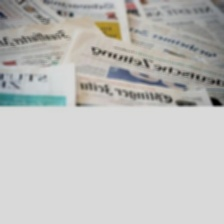news_paper: (55, 26, 223, 109), (47, 69, 219, 107), (0, 14, 109, 68), (35, 0, 131, 52), (119, 0, 224, 44), (0, 57, 82, 106), (0, 0, 67, 33)
